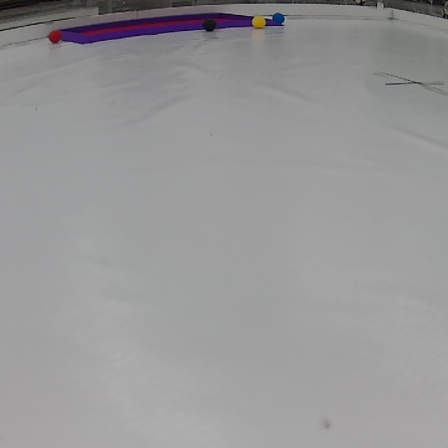black: (202, 19, 216, 31)
blue: (271, 13, 284, 24)
red: (49, 28, 62, 43)
red_aim: (60, 13, 290, 42)
yellow: (252, 15, 266, 30)
